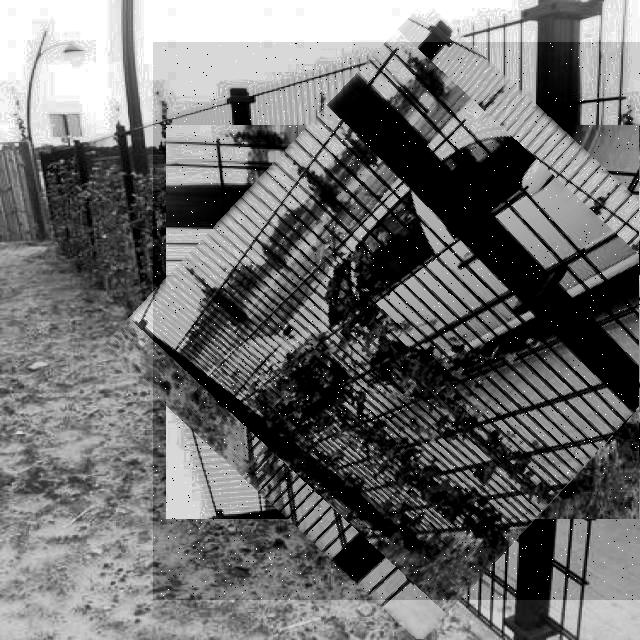fences: (153, 42, 640, 600)
